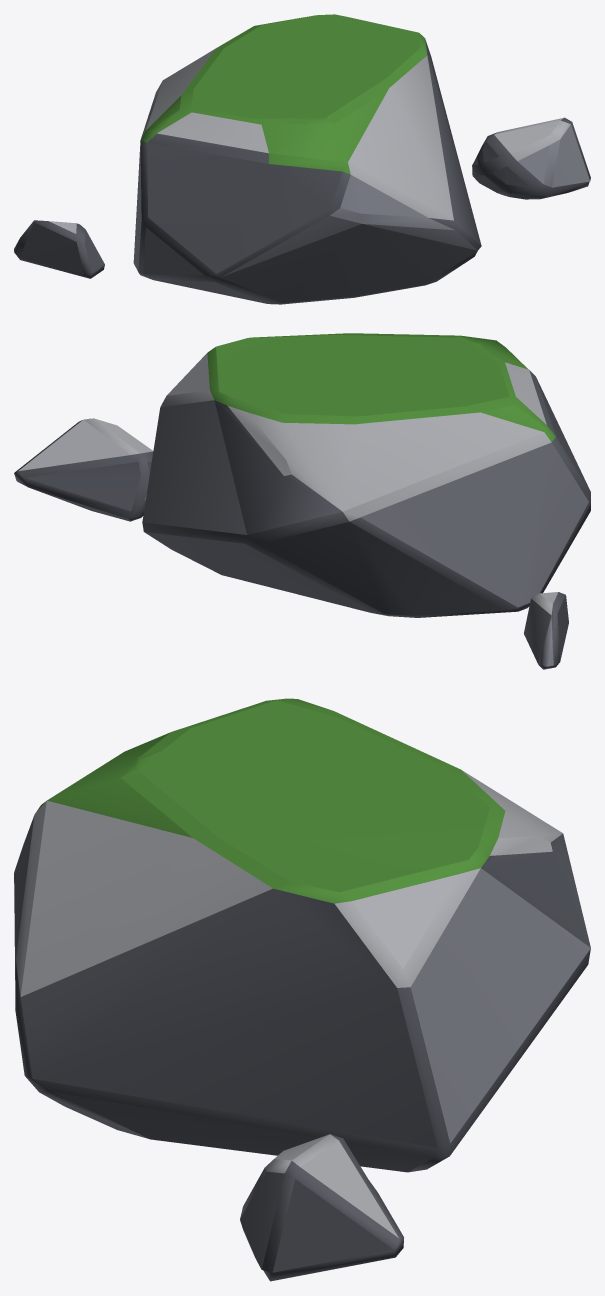
File: Boulder_21.glb
3 renders of one model, top to bottom at view 1: azimuth 30°, elevation 25°; view 2: azimuth 150°, elevation 25°; view 3: azimuth 270°, elevation 25°, orthographic. The views are drawn at different scales.
Visible parts, largest first — view 1: Boulder_21; view 2: Boulder_21; view 3: Boulder_21.
Part boxes in pixels (x1,y1,x2,y2): Boulder_21: [14, 14, 590, 304]; Boulder_21: [14, 333, 590, 669]; Boulder_21: [14, 698, 590, 1281].
Bounding box in the file's own units: 6.33 × 2 × 3.8.
